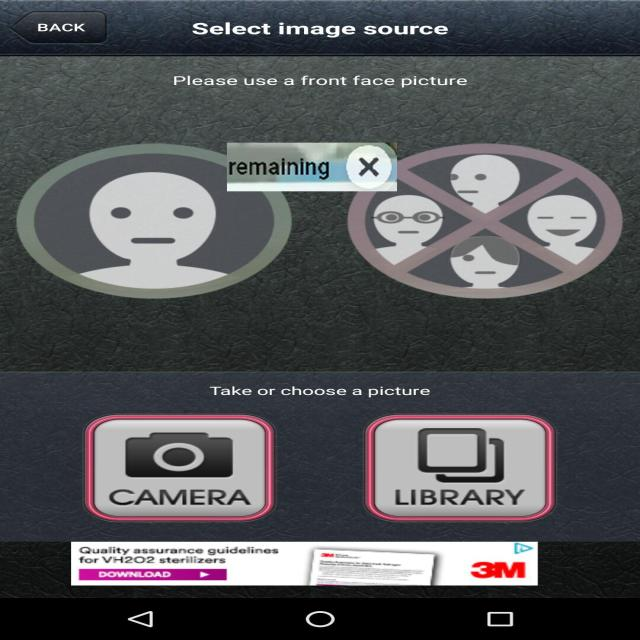misdirection: (227, 143, 397, 191)
